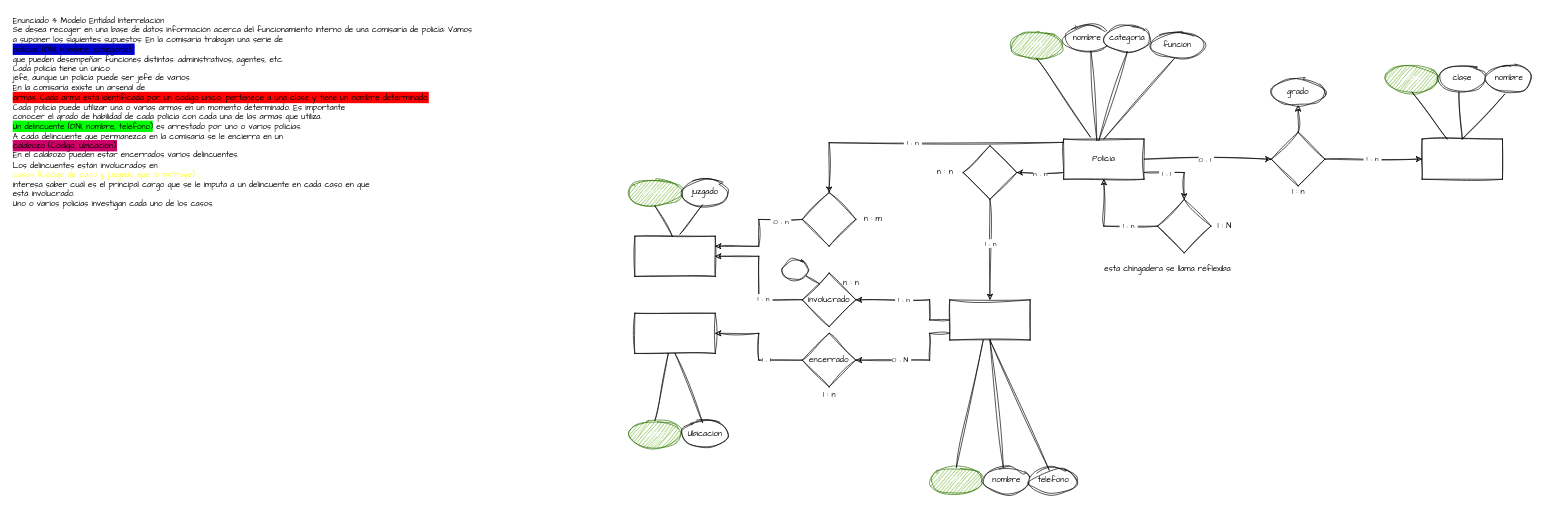
The diagram is 1544 pixels wide and 506 high, and some of its shapes have lost their labels. Here are the shapes that lost their labels. From the top down, the centre of each, then its label:
At [989,172]: "arresta".
At [1298,159]: "utiliza".
At [1461,158]: "Arma".
At [829,219]: "investiga".
At [1184,226]: "lidera".
At [674,256]: "caso".
At [795,269]: "cargo".
At [674,333]: "Calabozo".
At [989,319]: "Delincuente".
